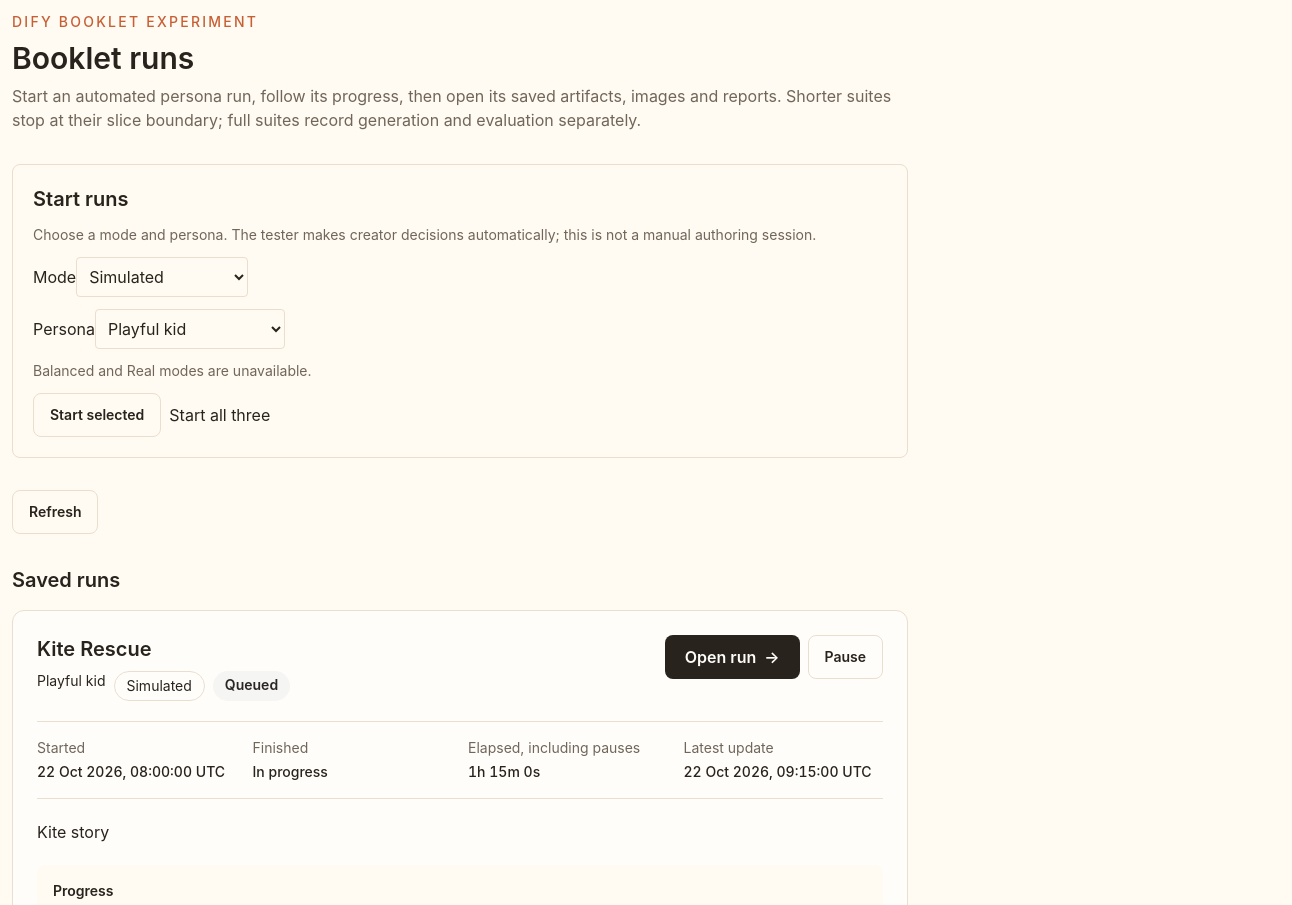
it: booklet runner inspector › bounds control retry after lost response
The image size is (1292, 905).
Expected: the heading "Kite Rescue" is shown, [37,637,152,661]
What coordinates should you click on to do the following:
click the button "Pause"
I would click on:
 (845, 657)
Its box is [808,635,883,679].
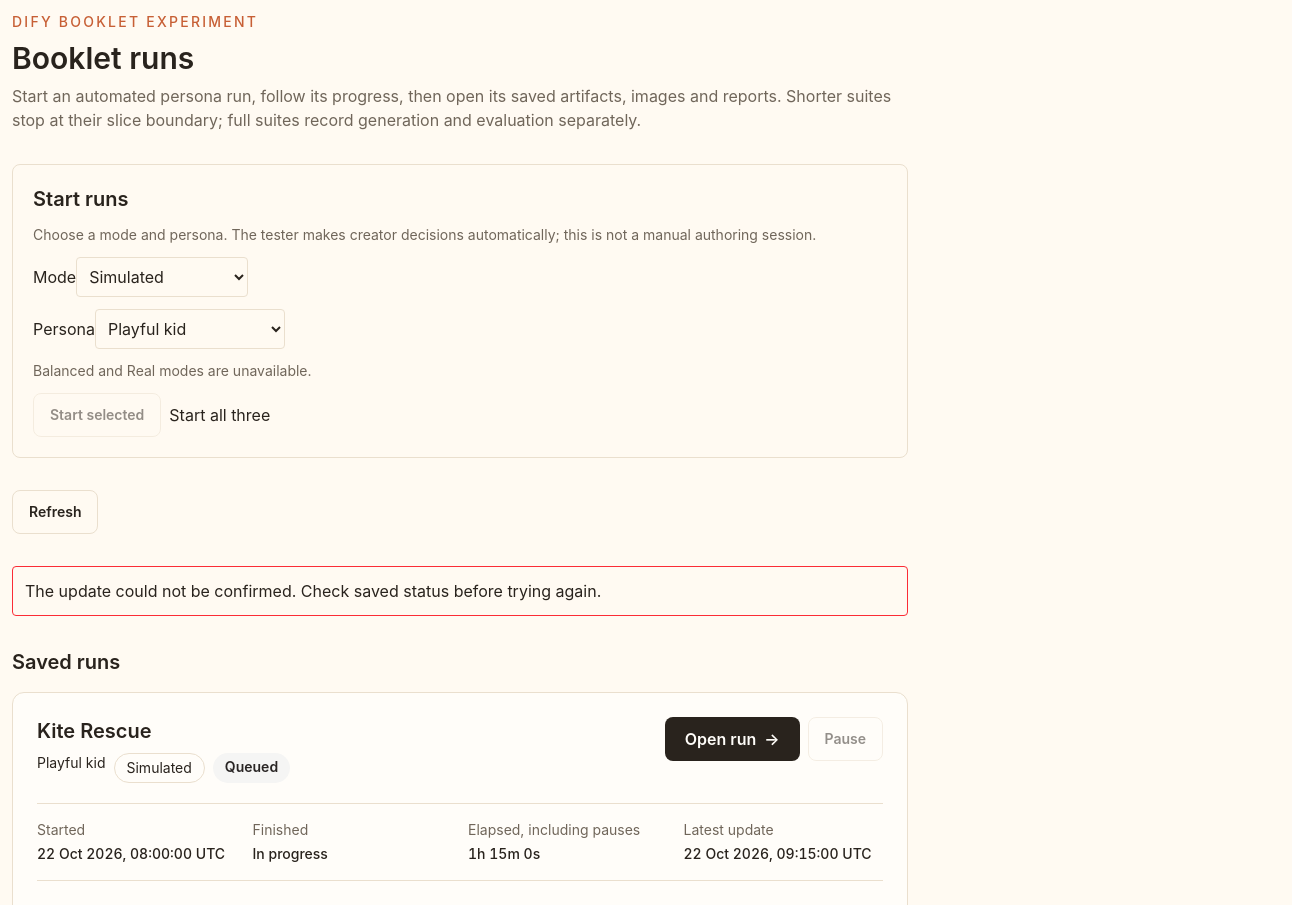
Expected: the message "The update could not be confirmed. Check saved status before trying again." is shown, [12,566,908,616]
